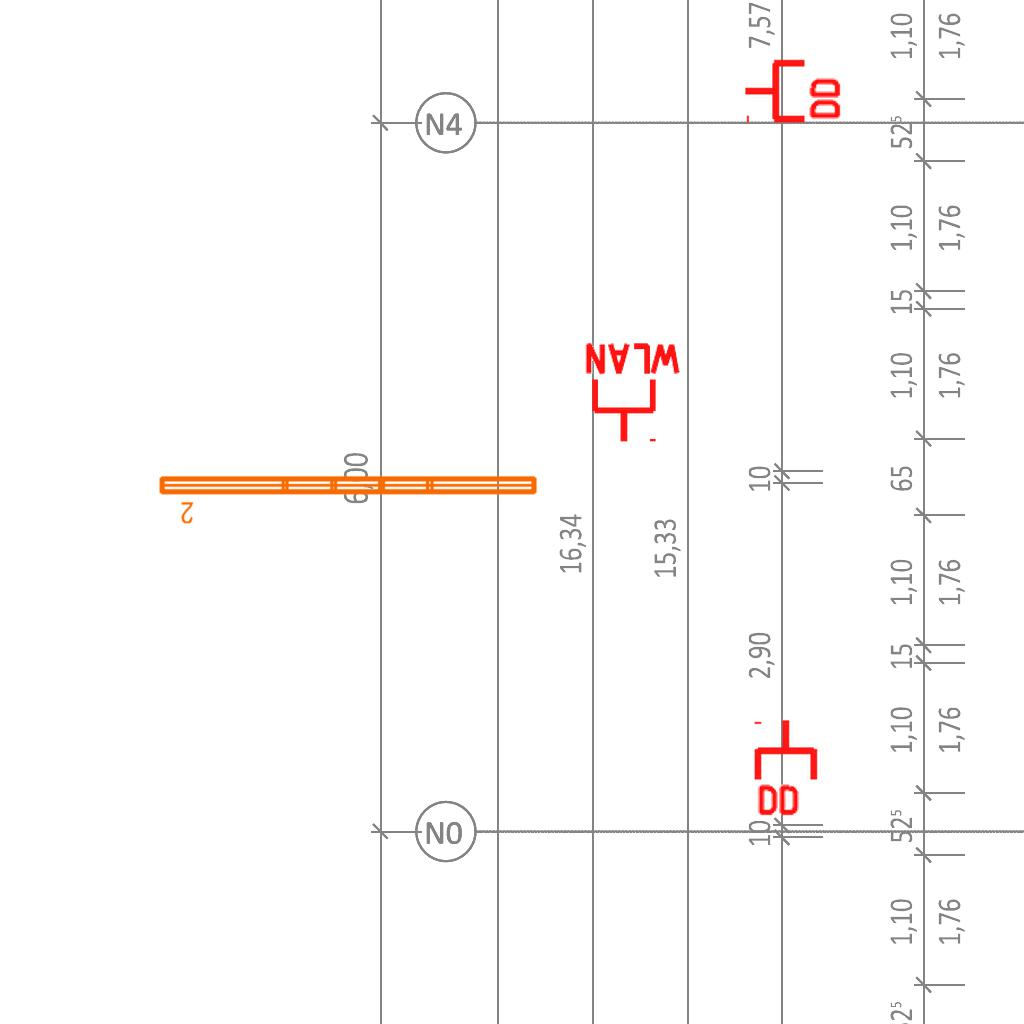Ambulanz_Pendelleuchte_LED: (155, 470, 542, 526)
Datenanschluss_zweifach: (753, 717, 822, 820), (742, 55, 845, 124)
WLAN: (581, 341, 685, 446)
